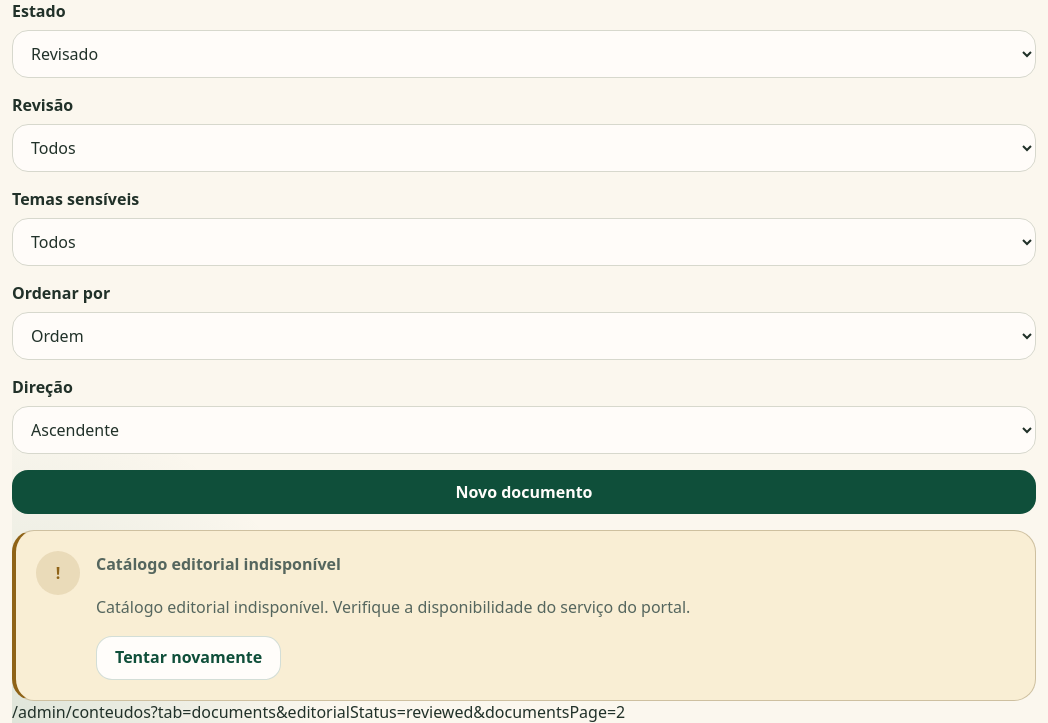
Test case: AdminKnowledgePage › reexecuta somente a listagem de documentos em erro preservando filtro e página
(page scrolled)
Check: the text "Catálogo editorial indisponível. Verifique a disponibilidade do serviço do portal." is shown, box [96,596,690,618]
Click the button "Tentar novamente" at {"x": 189, "y": 658}, box [96,636,281,680]
(page scrolled)
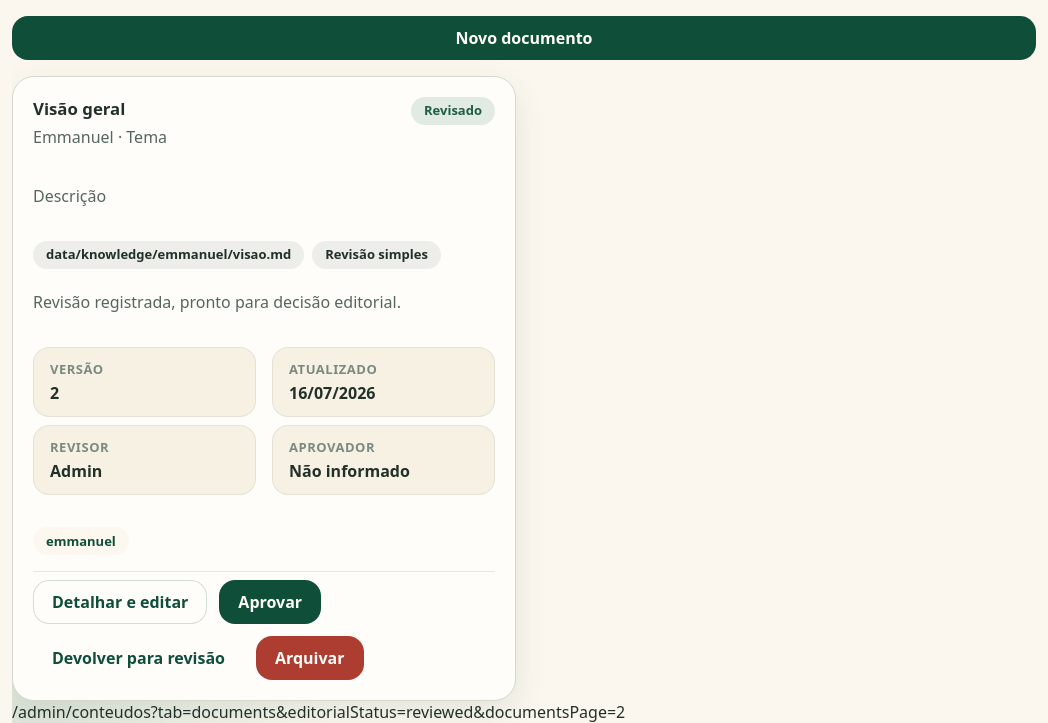
Check: the text with test id "location" reads "/admin/conteudos?tab=documents&editorialStatus=reviewed&documentsPage=2", box [12,701,625,722]
Check: the heading "Visão geral" is shown, box [33,97,125,120]
